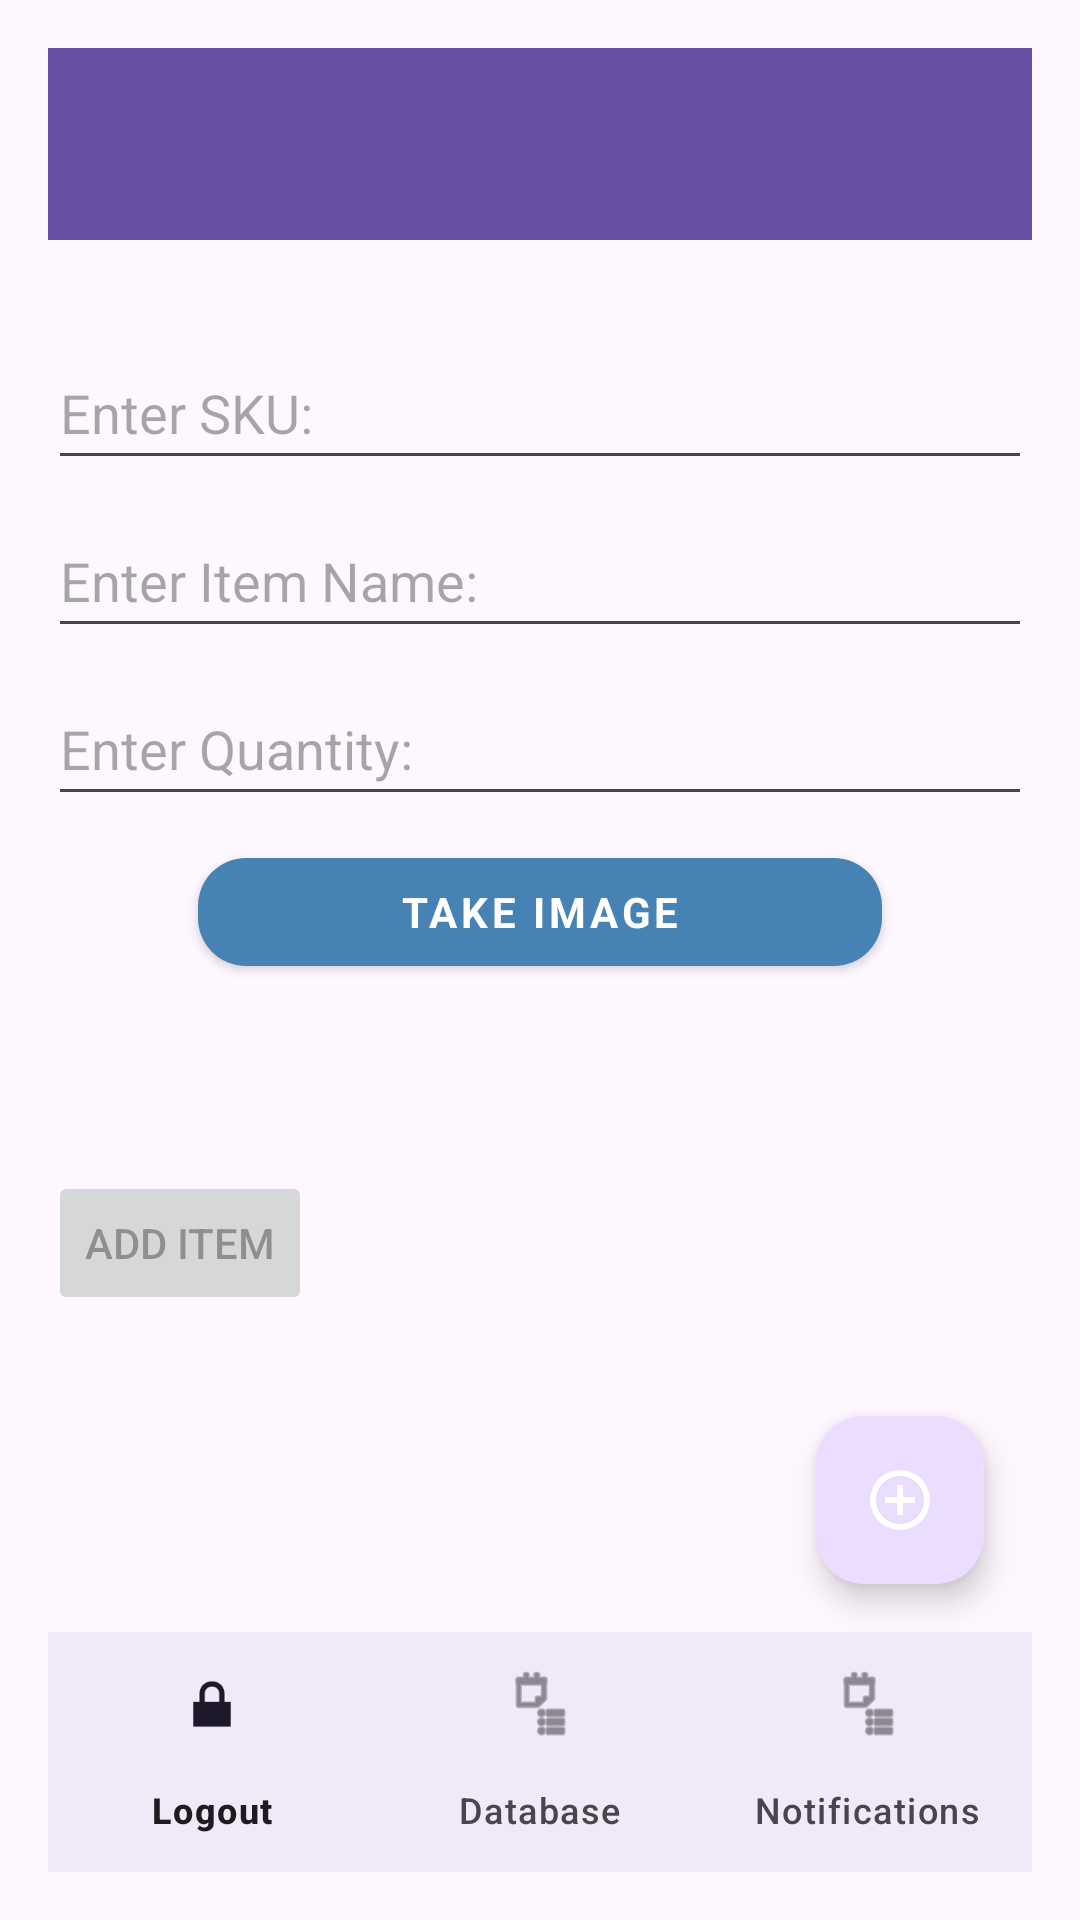

Where icons sit on this 1080 x 1920 app screen, as (x1, y1, x2, y2):
Add Item: (816, 1416, 984, 1584)
